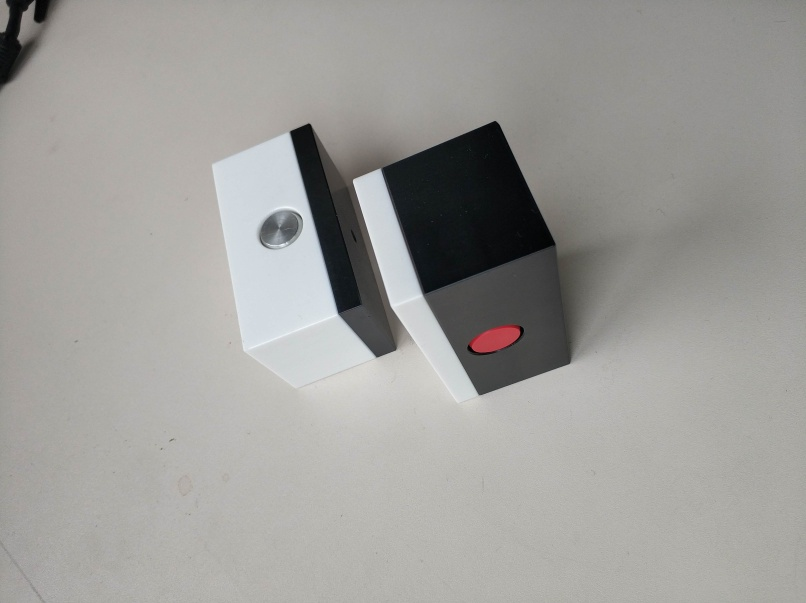black+white+silver: (207, 119, 400, 394)
white+black+red: (354, 119, 574, 408)
